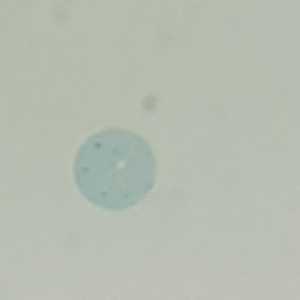punctate reticulocyte: (72, 125, 157, 212)
